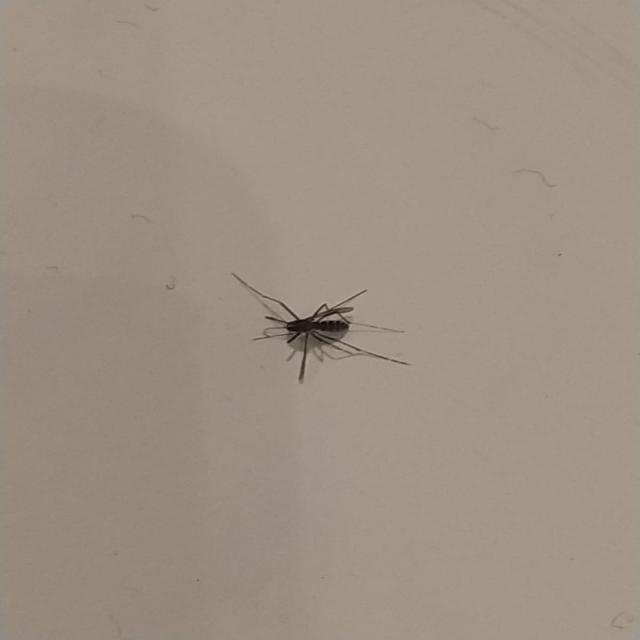albopictus: (226, 266, 411, 386)
